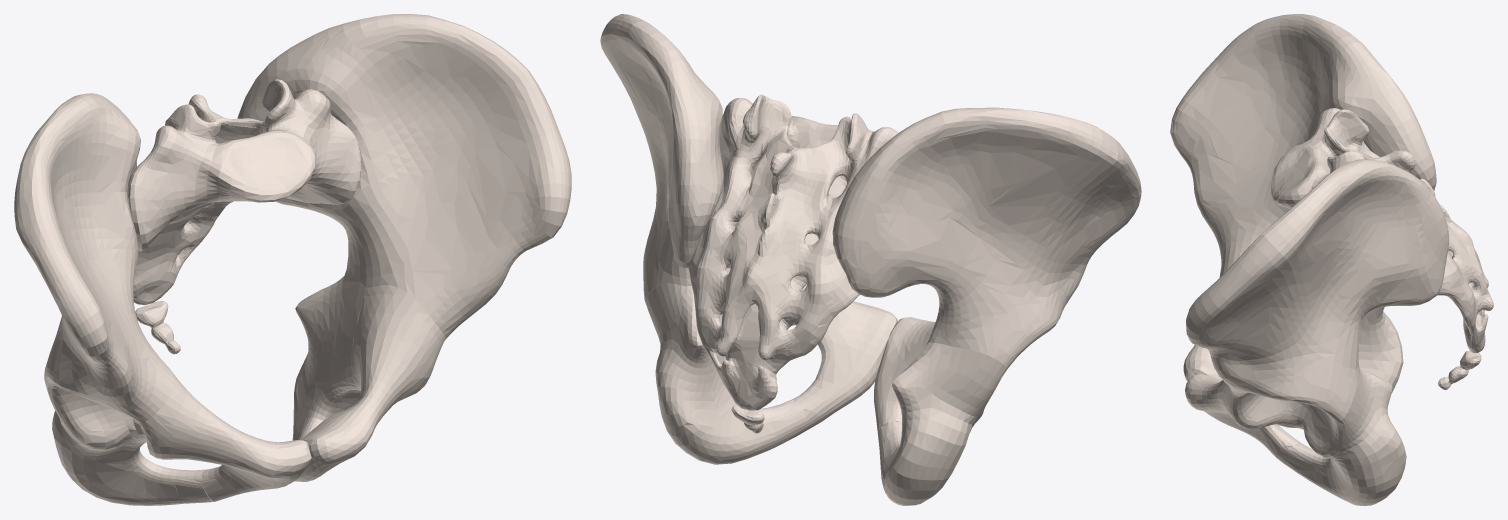
Rendered from pelvis.glb.
3 renders of one model, left to right at view 1: azimuth 30°, elevation 25°; view 2: azimuth 150°, elevation 25°; view 3: azimuth 270°, elevation 25°, orthographic. The views are drawn at different scales.
Parts seen in each view (by area): view 1: VH_M_ilium_compact_bone_L, VH_M_ilium_compact_bone_R, VH_M_sacrum, VH_M_pubis_compact_bone_L, VH_M_ischium_compact_bone_R, VH_M_pubis_compact_bone_R, VH_M_ischium_compact_bone_L, VH_M_coccyx; view 2: VH_M_ilium_compact_bone_R, VH_M_sacrum, VH_M_ilium_compact_bone_L, VH_M_ischium_compact_bone_L, VH_M_ischium_compact_bone_R, VH_M_pubis_compact_bone_L, VH_M_pubis_compact_bone_R; view 3: VH_M_ilium_compact_bone_L, VH_M_ilium_compact_bone_R, VH_M_ischium_compact_bone_L, VH_M_sacrum, VH_M_pubis_compact_bone_L, VH_M_ischium_compact_bone_R, VH_M_pubis_compact_bone_R, VH_M_coccyx.
Part boxes in pixels (box(x1,y1,x2,y2)): VH_M_ilium_compact_bone_L: box(237, 14, 571, 338); VH_M_ilium_compact_bone_R: box(14, 93, 174, 423); VH_M_sacrum: box(127, 79, 361, 305); VH_M_pubis_compact_bone_L: box(295, 285, 445, 481); VH_M_ischium_compact_bone_R: box(45, 384, 214, 505); VH_M_pubis_compact_bone_R: box(139, 369, 311, 501); VH_M_ischium_compact_bone_L: box(292, 274, 365, 440); VH_M_coccyx: box(135, 301, 180, 354); VH_M_ilium_compact_bone_R: box(832, 107, 1141, 367); VH_M_sacrum: box(688, 94, 898, 410); VH_M_ilium_compact_bone_L: box(600, 14, 723, 299); VH_M_ischium_compact_bone_L: box(644, 268, 821, 464); VH_M_ischium_compact_bone_R: box(878, 342, 1007, 505); VH_M_pubis_compact_bone_L: box(793, 284, 897, 421); VH_M_pubis_compact_bone_R: box(874, 317, 935, 433); VH_M_ilium_compact_bone_L: box(1186, 159, 1449, 421); VH_M_ilium_compact_bone_R: box(1170, 14, 1436, 265); VH_M_ischium_compact_bone_L: box(1276, 367, 1406, 505); VH_M_sacrum: box(1271, 108, 1493, 353); VH_M_pubis_compact_bone_L: box(1185, 373, 1299, 457); VH_M_ischium_compact_bone_R: box(1289, 306, 1403, 428); VH_M_pubis_compact_bone_R: box(1183, 261, 1291, 427); VH_M_coccyx: box(1438, 350, 1481, 389).
Size of the model in its own units: 0.2835 by 0.2185 by 0.1728.
